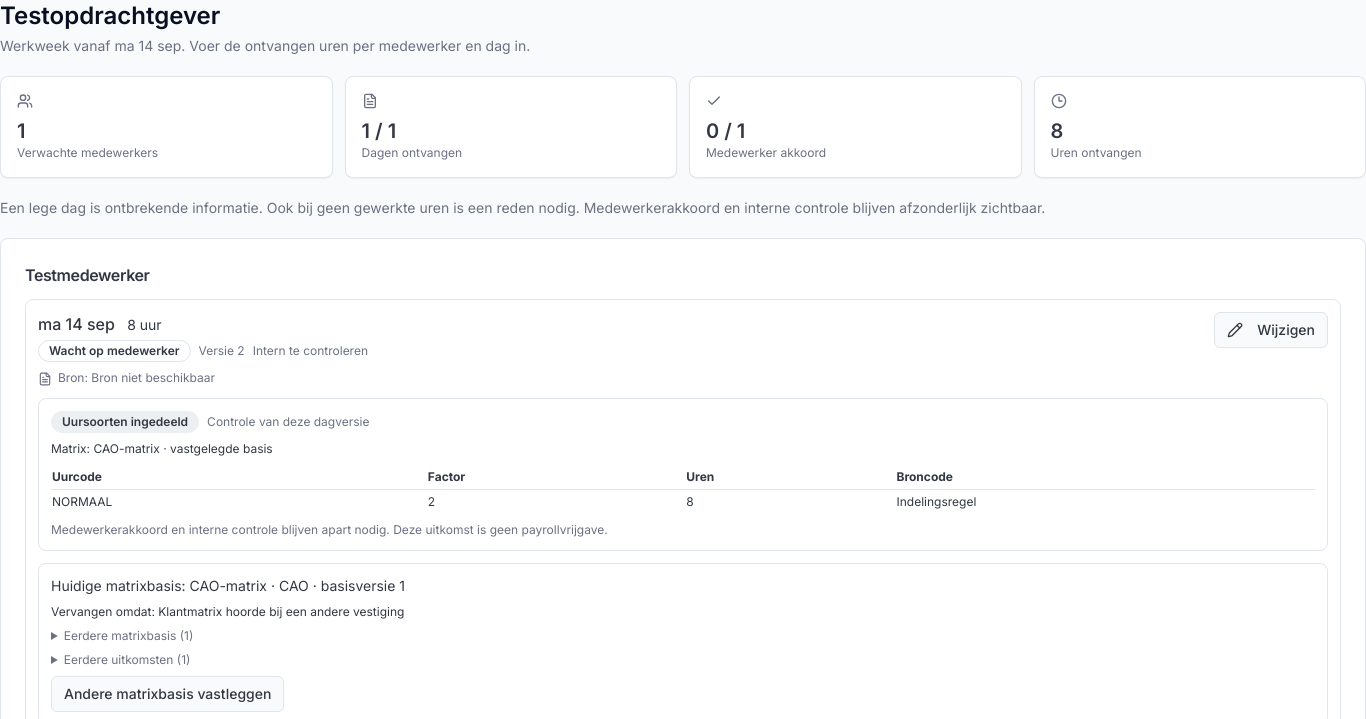
the basis a day stands on › names the basis in force and keeps every earlier basis with its reason
The image size is (1366, 719).
Check: the text "Huidige matrixbasis: CAO-matrix · CAO · basisversie 1" is shown, box left=51, top=577, right=405, bottom=594
Check: the text "Vervangen omdat: Klantmatrix hoorde bij een andere vestiging" is shown, box left=51, top=604, right=404, bottom=619
What coordinates should you click on to do the following:
click the heading "Eerdere matrixbasis (1)"
I would click on:
 (128, 636)
Its box is left=64, top=628, right=193, bottom=643.
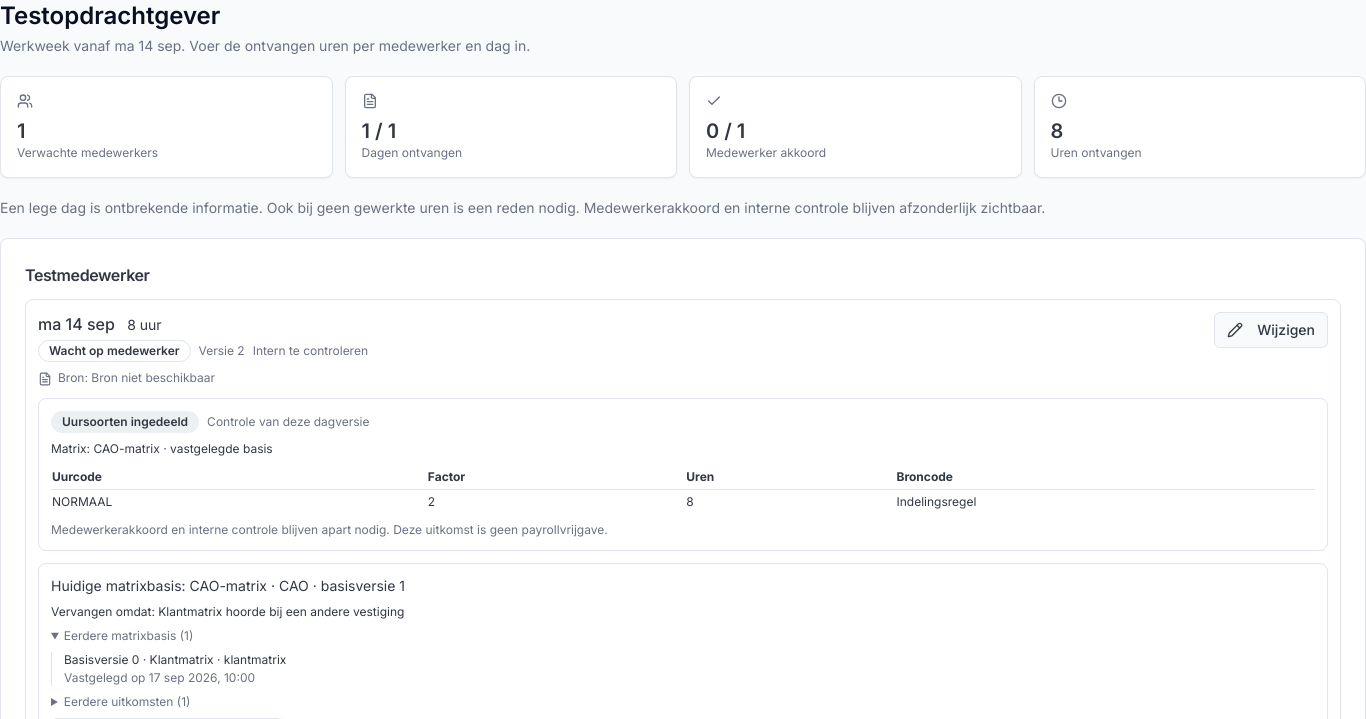
Check: the text "Basisversie 0 · Klantmatrix · klantmatrix" is shown, box left=64, top=652, right=286, bottom=667
